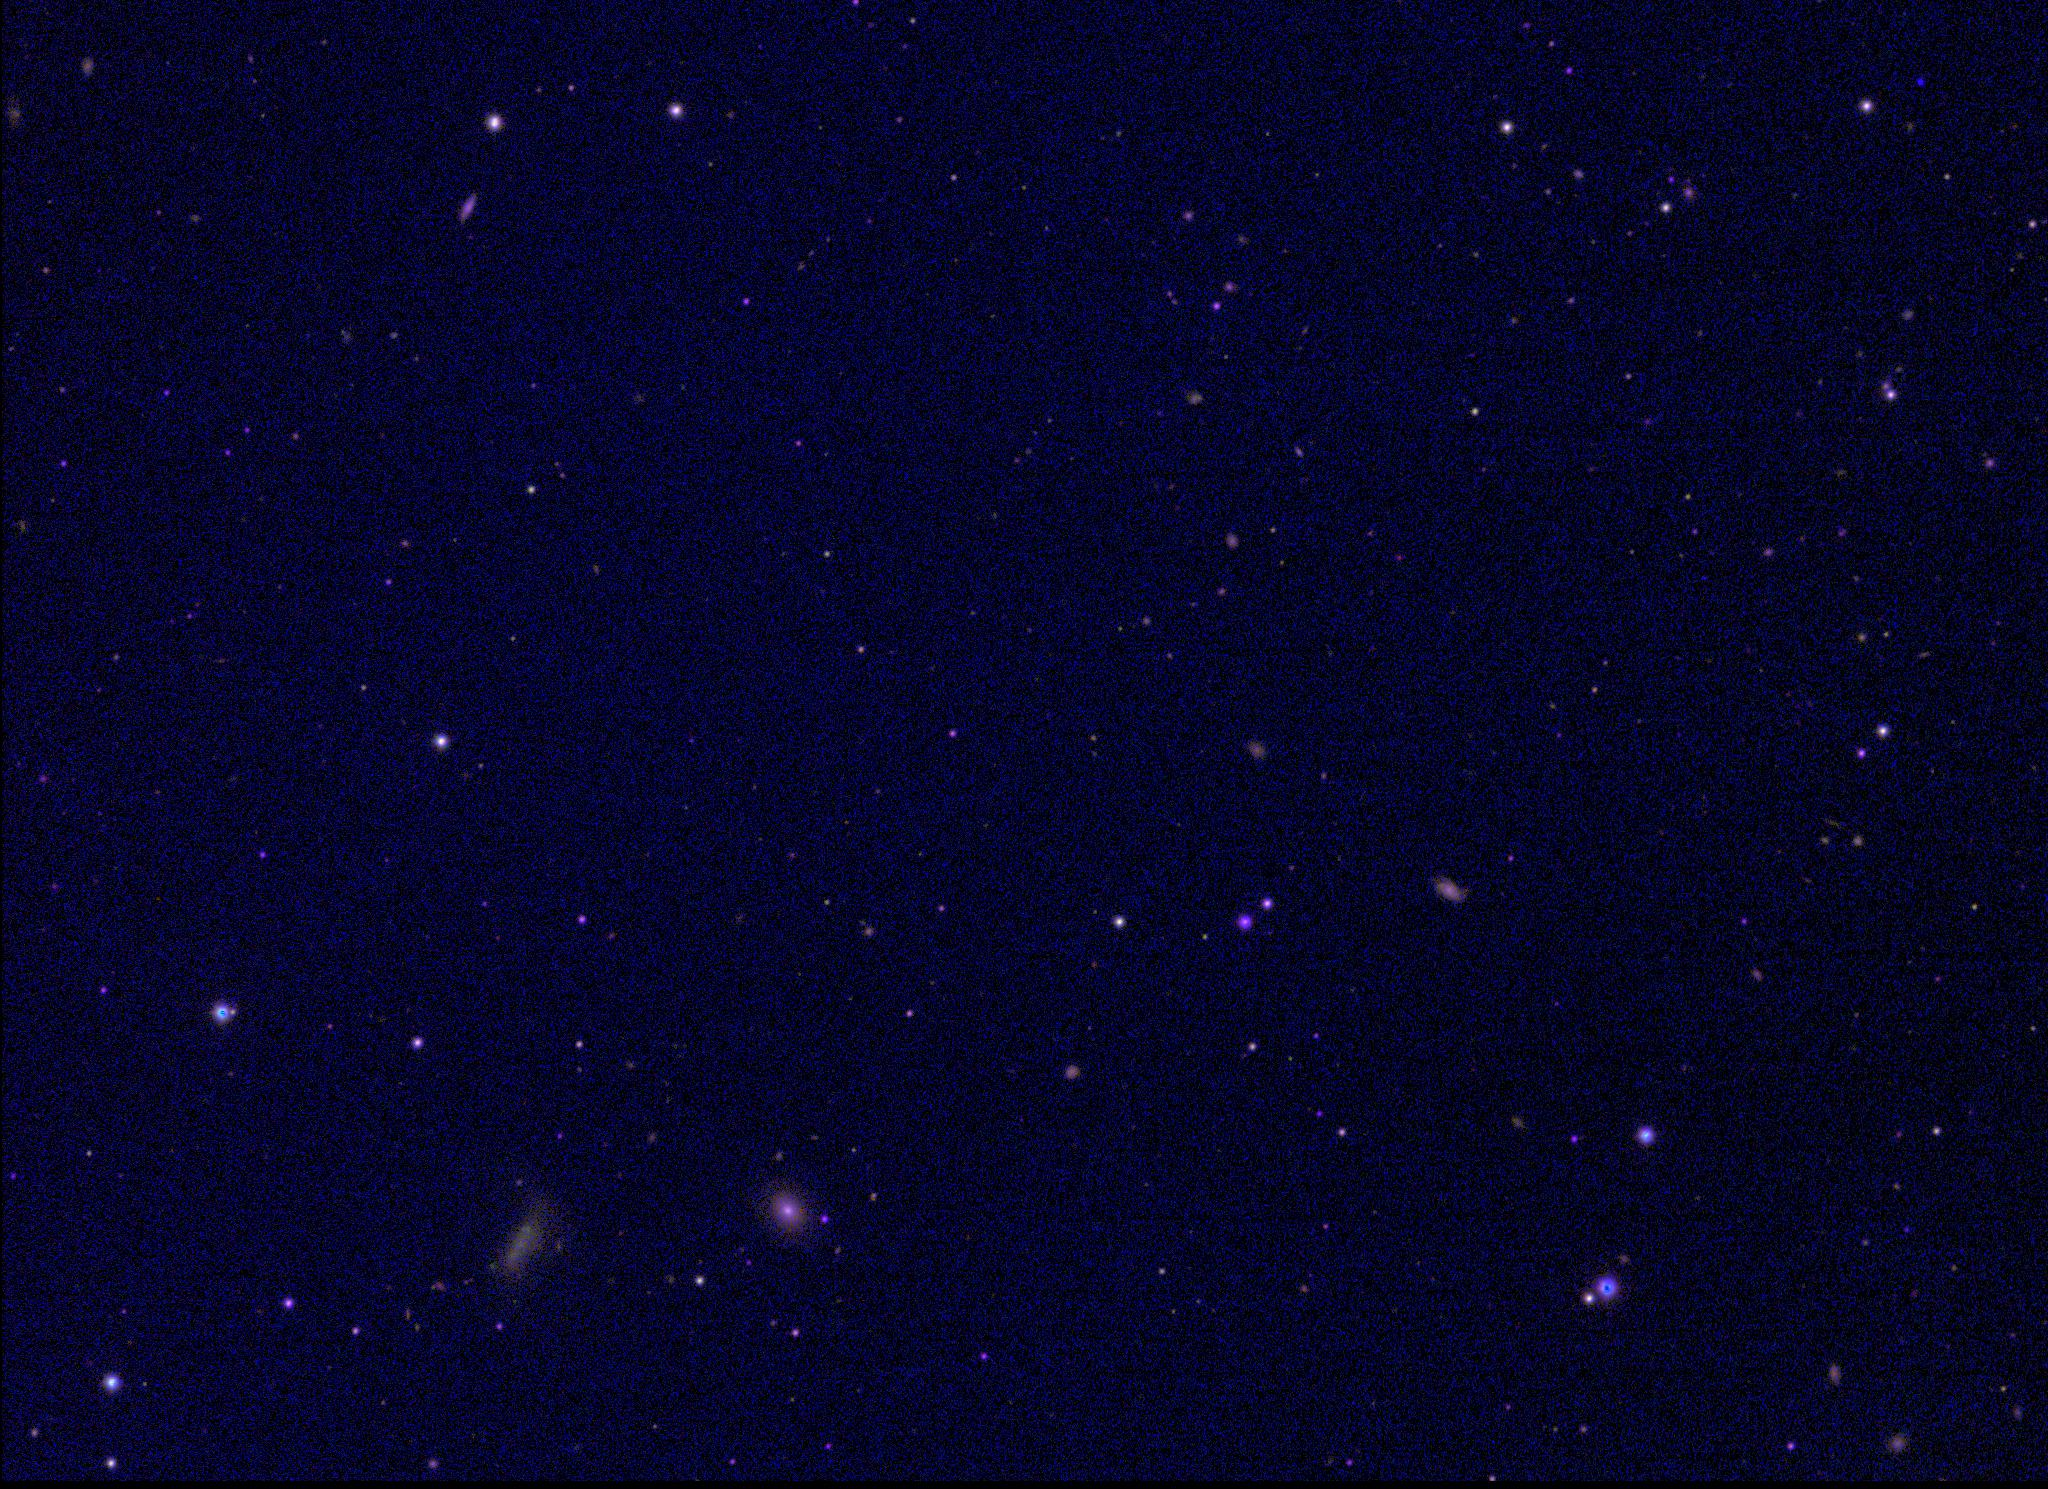L: (1916, 72, 1930, 84)
